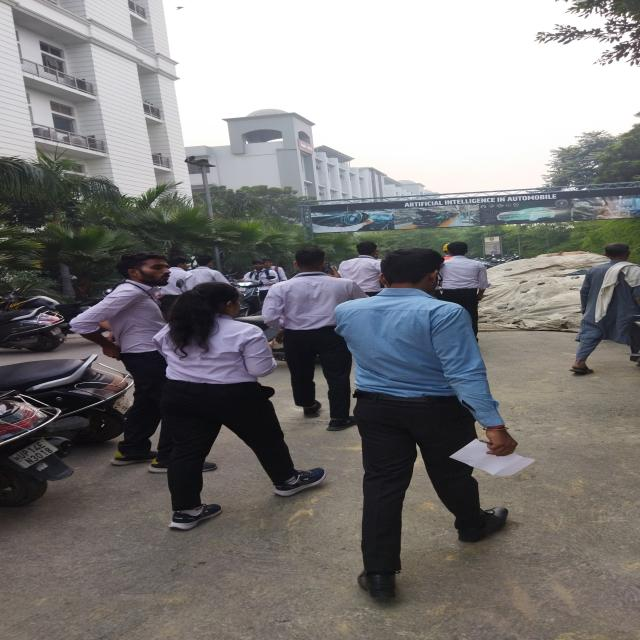unsafe: (330, 248, 532, 602), (154, 280, 330, 528), (67, 253, 202, 471), (264, 246, 368, 430), (575, 245, 640, 376), (434, 240, 487, 341), (338, 244, 386, 306)
